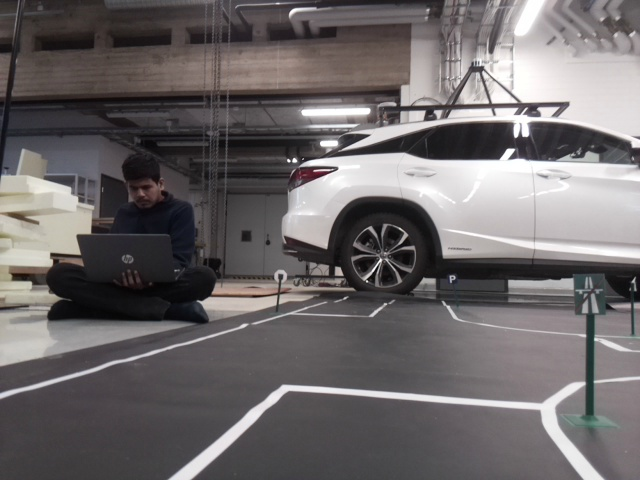HighwayExit: (575, 275, 604, 312)
